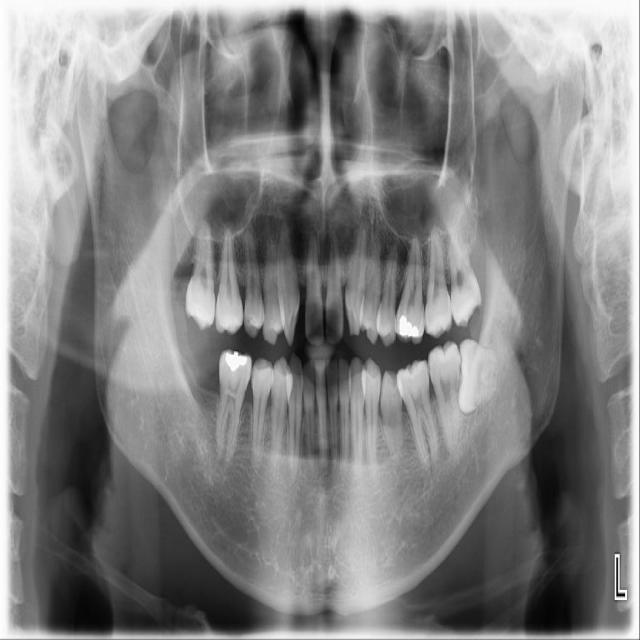Filling: (225, 351, 247, 372), (399, 315, 419, 338)
impacted tooth: (461, 340, 513, 416)
